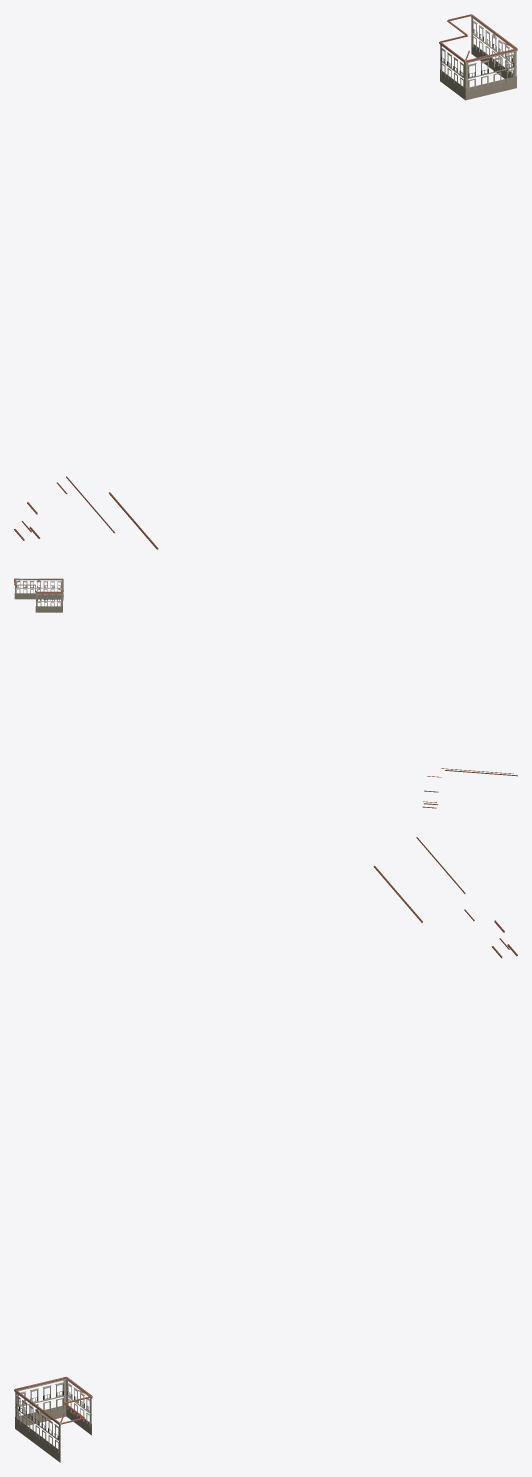
3 renders of one model, top to bottom at view 1: azimuth 90°, elevation 25°; view 2: azimuth 150°, elevation 25°; view 3: azimuth 270°, elevation 25°, orthographic. The views are drawn at different scales.
Visible parts, largest first — view 1: detail; view 2: detail; view 3: detail.
Boxes of the visible parts, bbox=[...] form: detail: bbox=[14, 14, 517, 549]; detail: bbox=[14, 578, 517, 808]; detail: bbox=[14, 837, 517, 1462].
Size of the model in its own units: 285 by 17.64 by 110.
